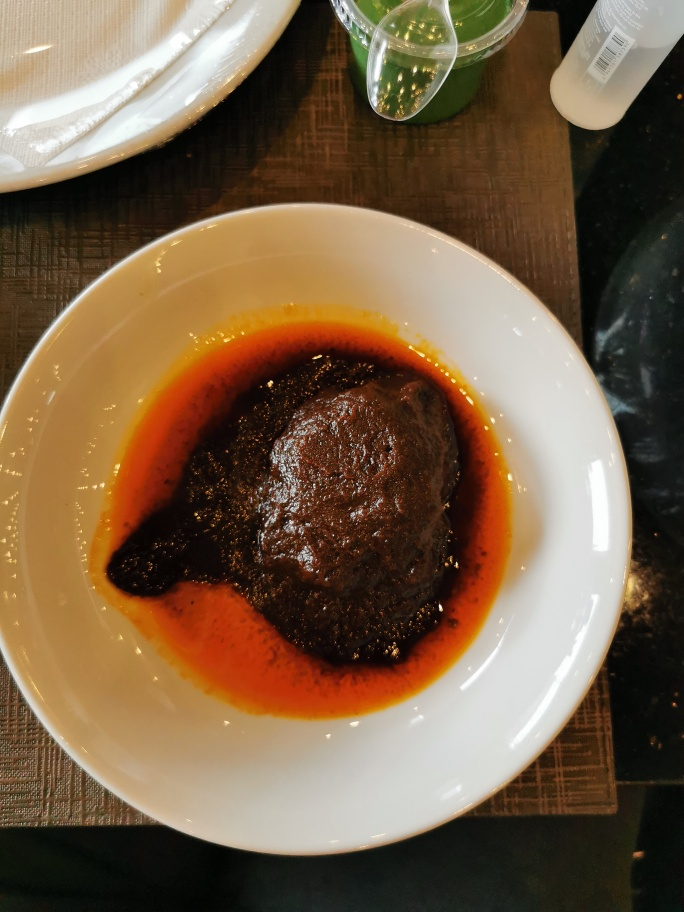rendang: (200, 357, 463, 674)
